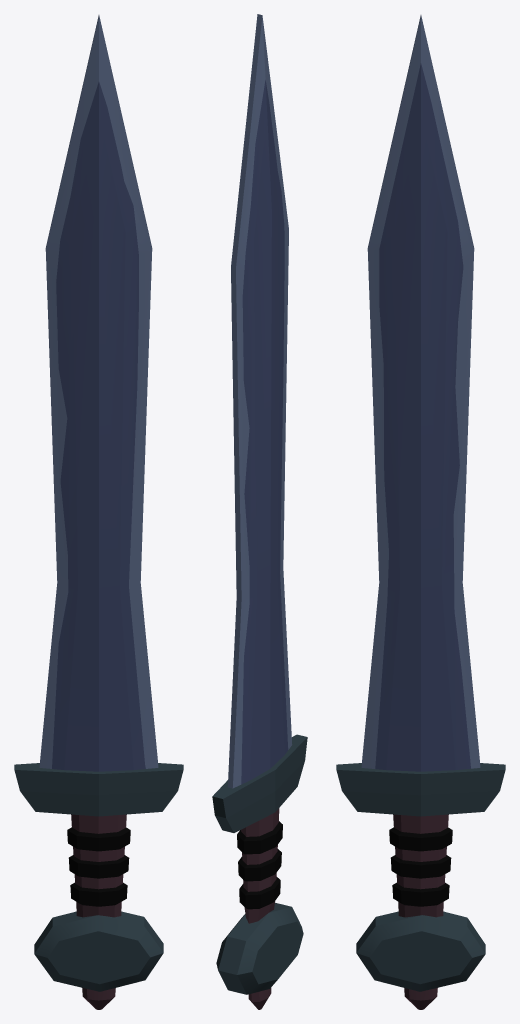
The model's file is Sword_05.fbx.
3 renders of one model, left to right at view 1: azimuth 90°, elevation 25°; view 2: azimuth 150°, elevation 25°; view 3: azimuth 270°, elevation 25°, orthographic.
Visible parts, largest first — view 1: Sword 05; view 2: Sword 05; view 3: Sword 05.
Boxes of the visible parts, left/top/right/bottom form: Sword 05: left=14, top=15, right=183, bottom=1009; Sword 05: left=212, top=14, right=307, bottom=1009; Sword 05: left=336, top=15, right=505, bottom=1009.
Size of the model in its own units: 4.12 by 109 by 16.81.
